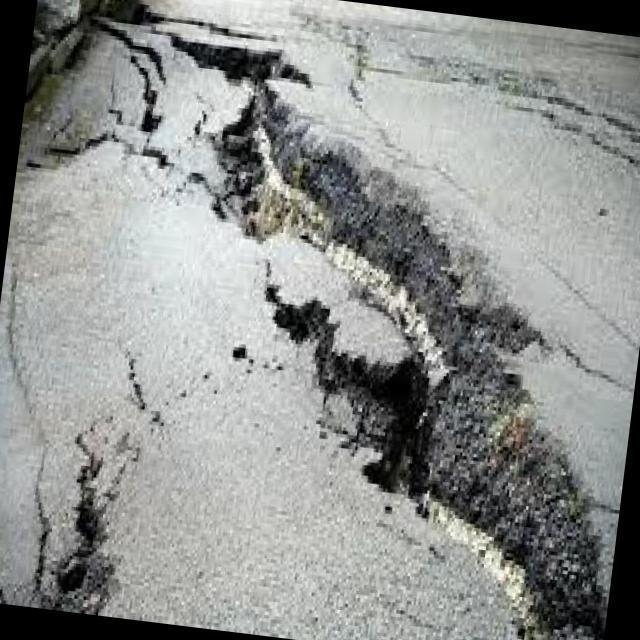Pothole: (170, 40, 608, 640)
